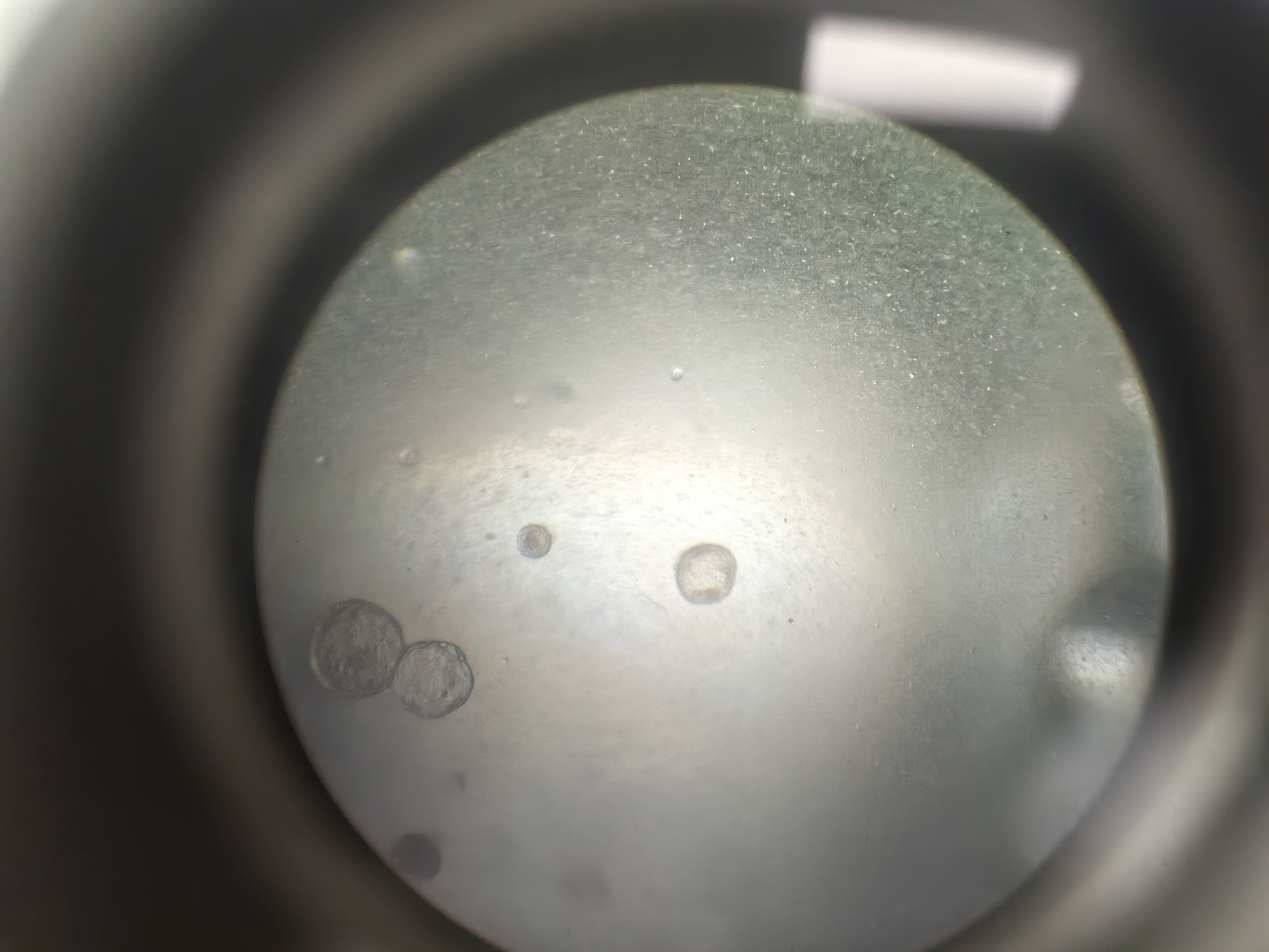organoid: (765, 463, 877, 553)
